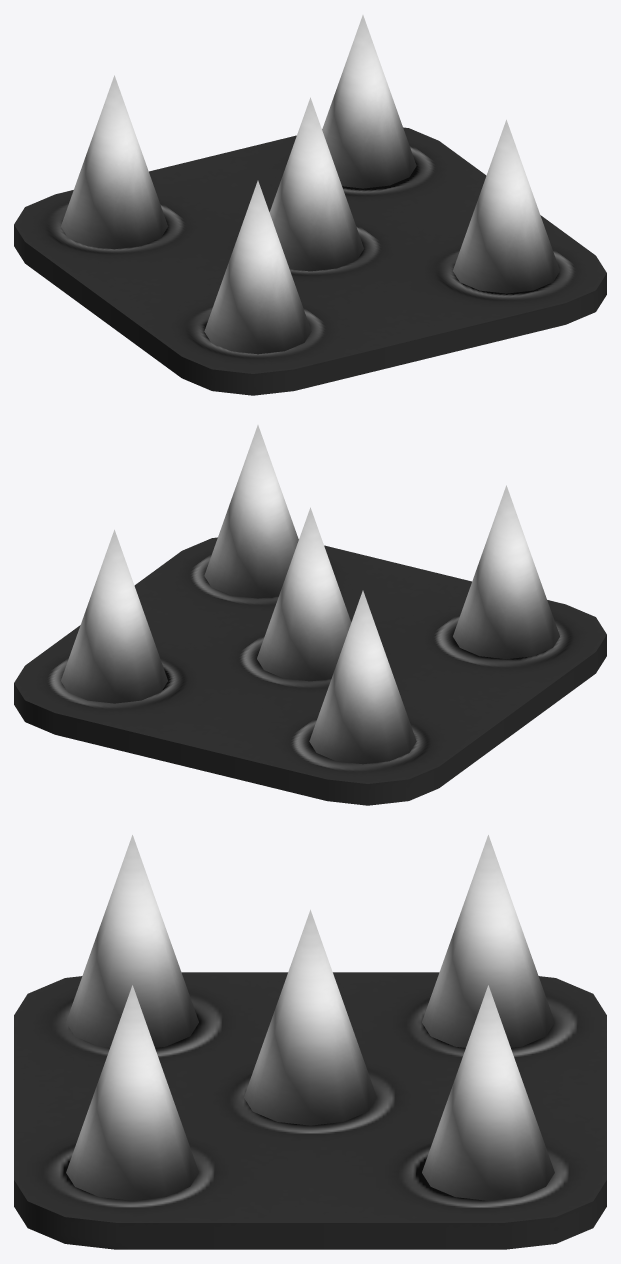
File: spikes_panel.glb
3 views of the same model, one above another, from view 1: azimuth 30°, elevation 25°; view 2: azimuth 150°, elevation 25°; view 3: azimuth 270°, elevation 25° (orthographic). The views are drawn at different scales.
Parts seen in each view (by area): view 1: spikes_panel; view 2: spikes_panel; view 3: spikes_panel.
Boxes of the visible parts, left/top/right/bottom form: spikes_panel: left=14, top=15, right=606, bottom=395; spikes_panel: left=14, top=425, right=606, bottom=805; spikes_panel: left=14, top=835, right=606, bottom=1249.
Bounding box in the file's own units: 2 × 0.8 × 2.
1 material, 1 textured.
